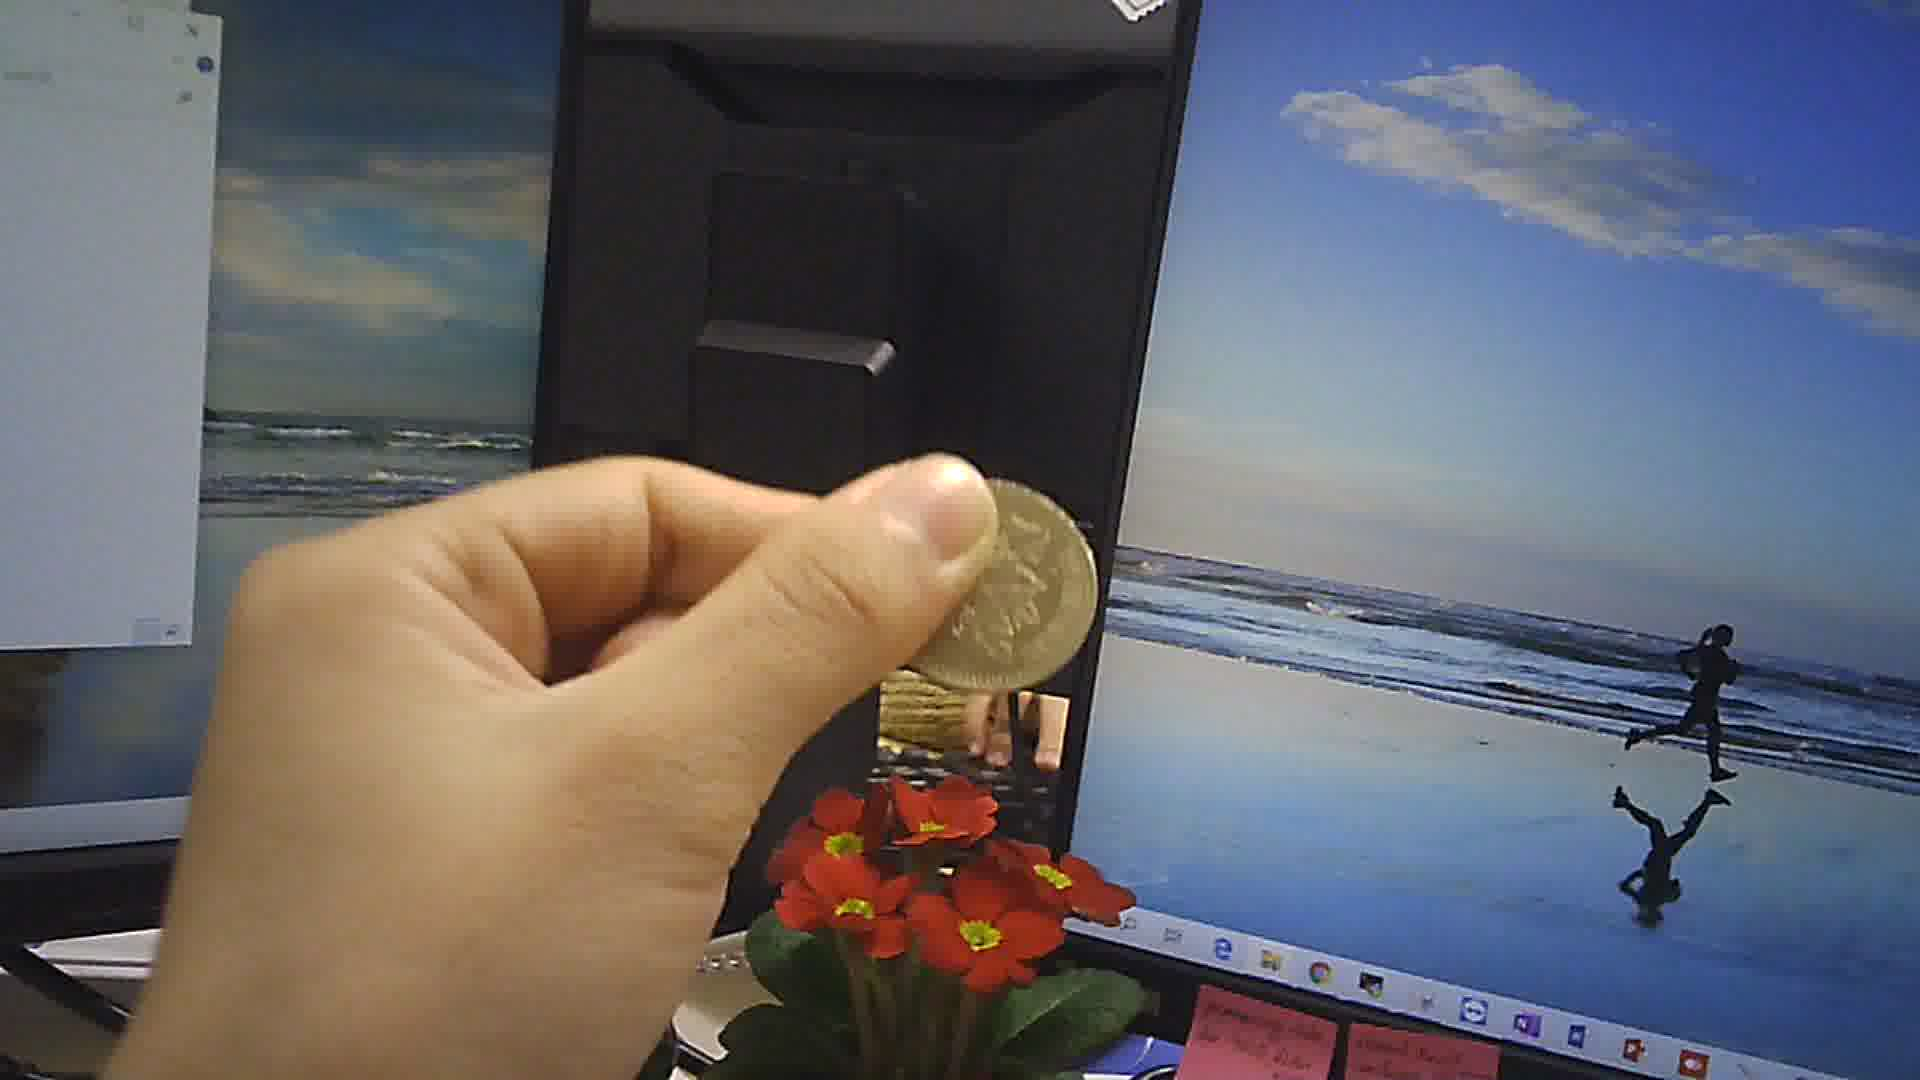500 Yen: (880, 460, 1110, 702)
